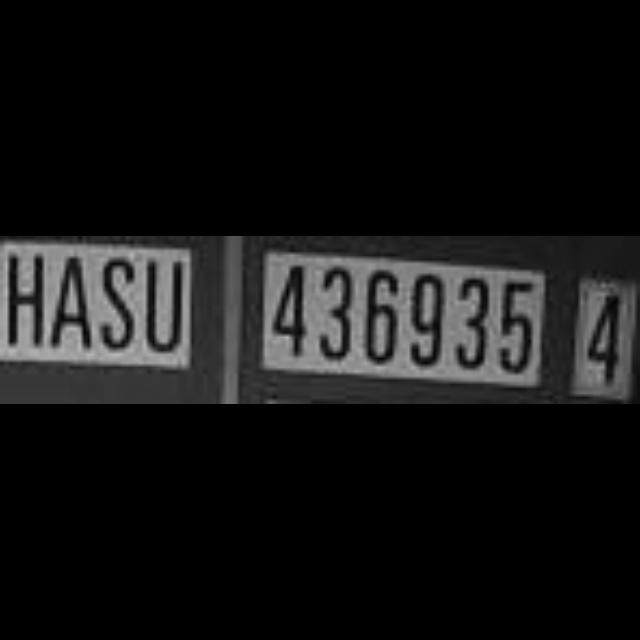3: (314, 260, 356, 368), (456, 270, 490, 378)
4: (267, 258, 311, 364), (582, 286, 624, 390)
5: (496, 274, 536, 382)
6: (362, 263, 402, 369)
9: (407, 268, 447, 378)
a: (46, 246, 96, 358)
h: (4, 247, 50, 359)
s: (100, 250, 140, 358)
u: (143, 252, 187, 360)
